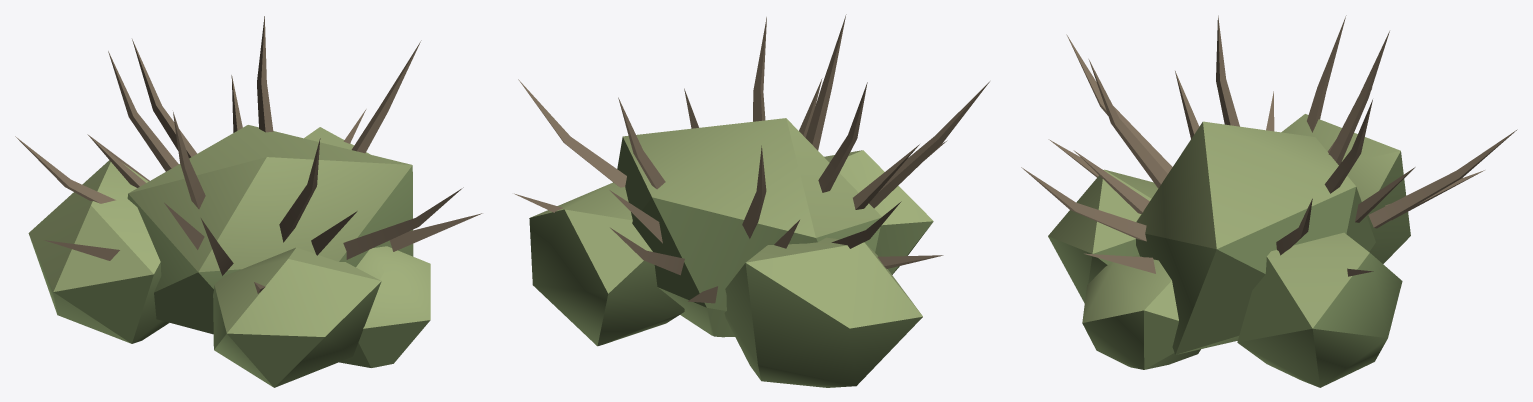
Rendered from shrub-1.glb.
The picture shows the model from 3 angles, left to right: view 1: azimuth 30°, elevation 25°; view 2: azimuth 150°, elevation 25°; view 3: azimuth 270°, elevation 25°; orthographic projection. The views are drawn at different scales.
Parts seen in each view (by area): view 1: shrub-1; view 2: shrub-1; view 3: shrub-1.
Boxes of the visible parts, bbox=[...] form: shrub-1: bbox=[15, 16, 482, 387]; shrub-1: bbox=[514, 14, 989, 387]; shrub-1: bbox=[1021, 15, 1517, 387].
Size of the model in its own units: 1.46 by 0.875 by 1.55.
